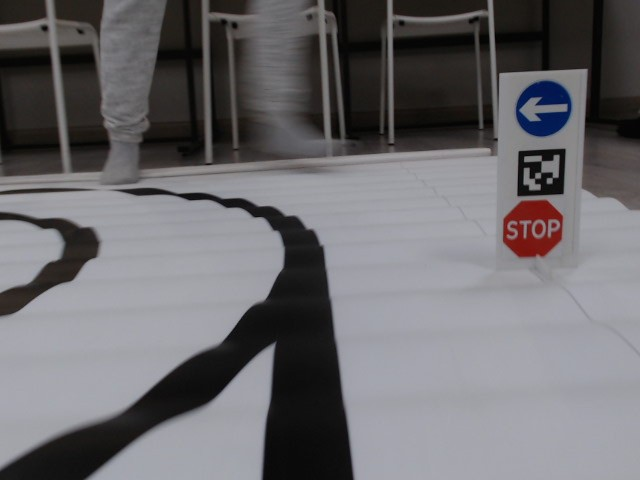Stop: (503, 200, 562, 259)
